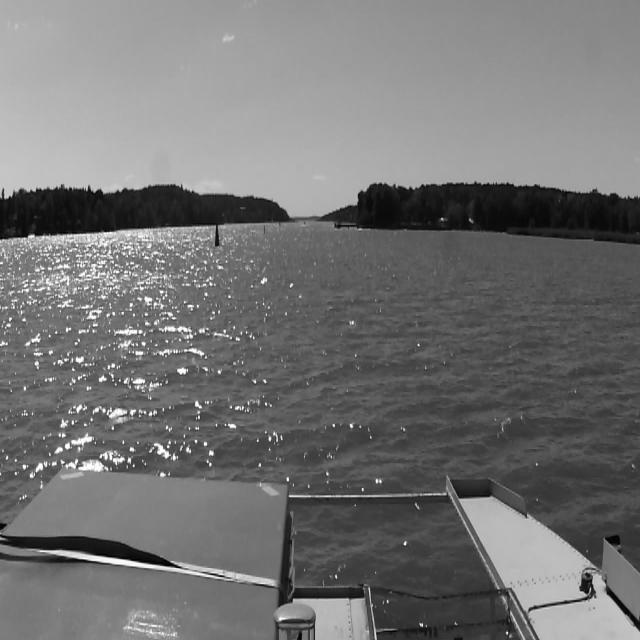buoy: (212, 218, 222, 252), (262, 221, 268, 240), (278, 216, 282, 228)
ship: (300, 216, 308, 225)
